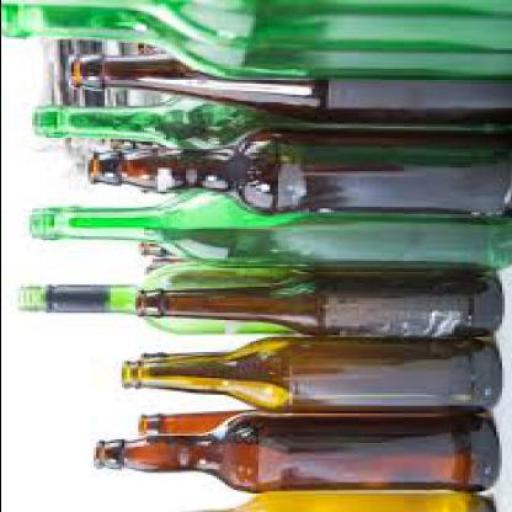glass: (84, 121, 510, 214), (24, 188, 510, 268), (0, 0, 509, 76), (62, 47, 510, 127), (90, 409, 496, 492), (118, 332, 496, 408), (131, 268, 498, 335), (14, 257, 300, 337), (26, 94, 282, 152), (174, 489, 492, 510), (134, 410, 257, 436)
